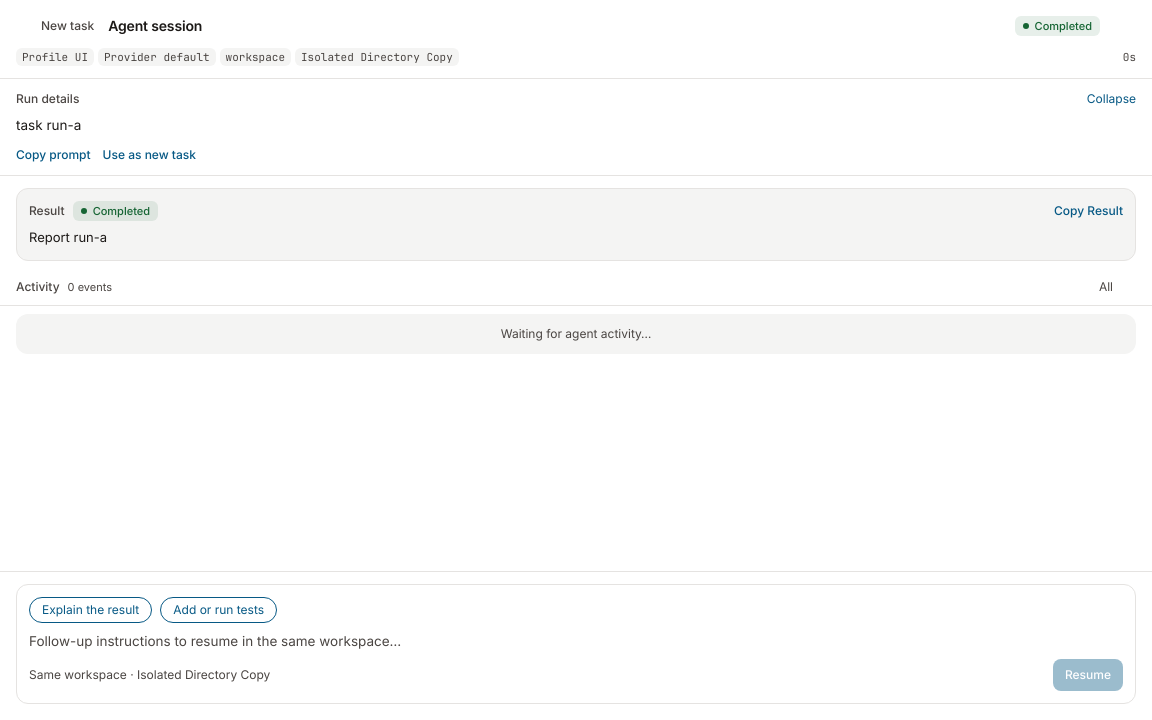
Scenario: Agent book UI: follow-ups › keeps text typed while a resume was in flight
The image size is (1152, 720).
Step 1. Type "first follow-up" into the text box named "Follow-up prompt" → (576, 641), box x1=29 y1=631 x2=1123 y2=651
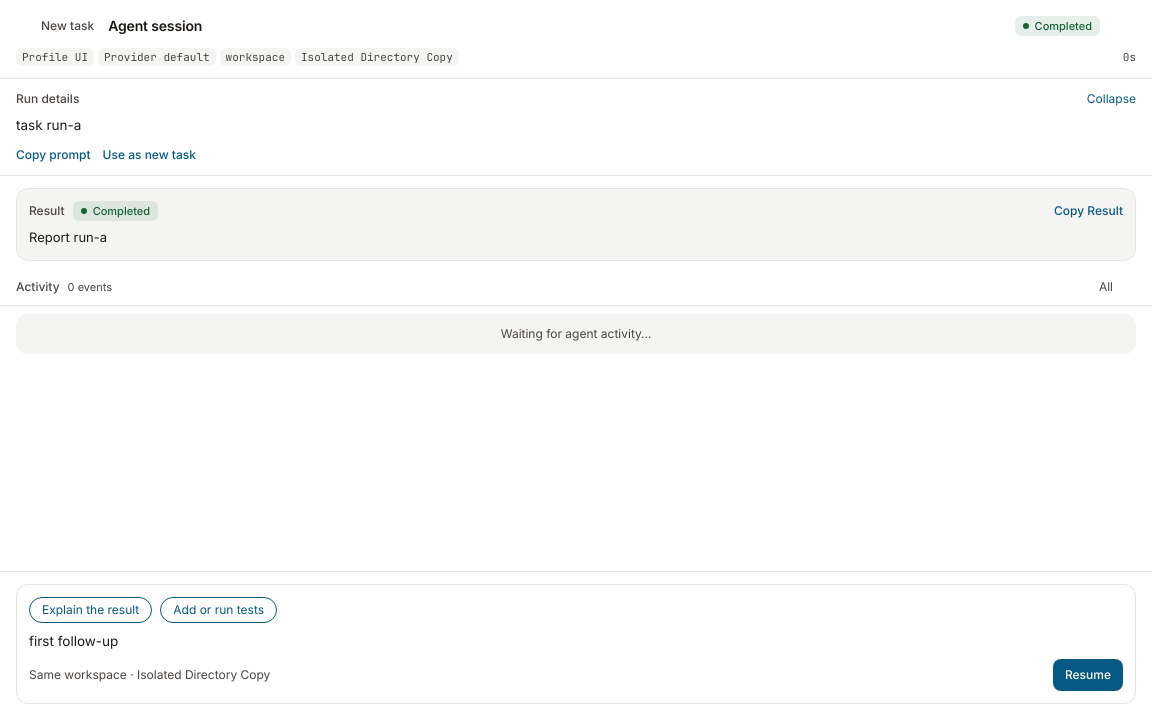
Step 2. Click the button with test id "agent-resume-button" → (1088, 675), box x1=1053 y1=659 x2=1123 y2=691
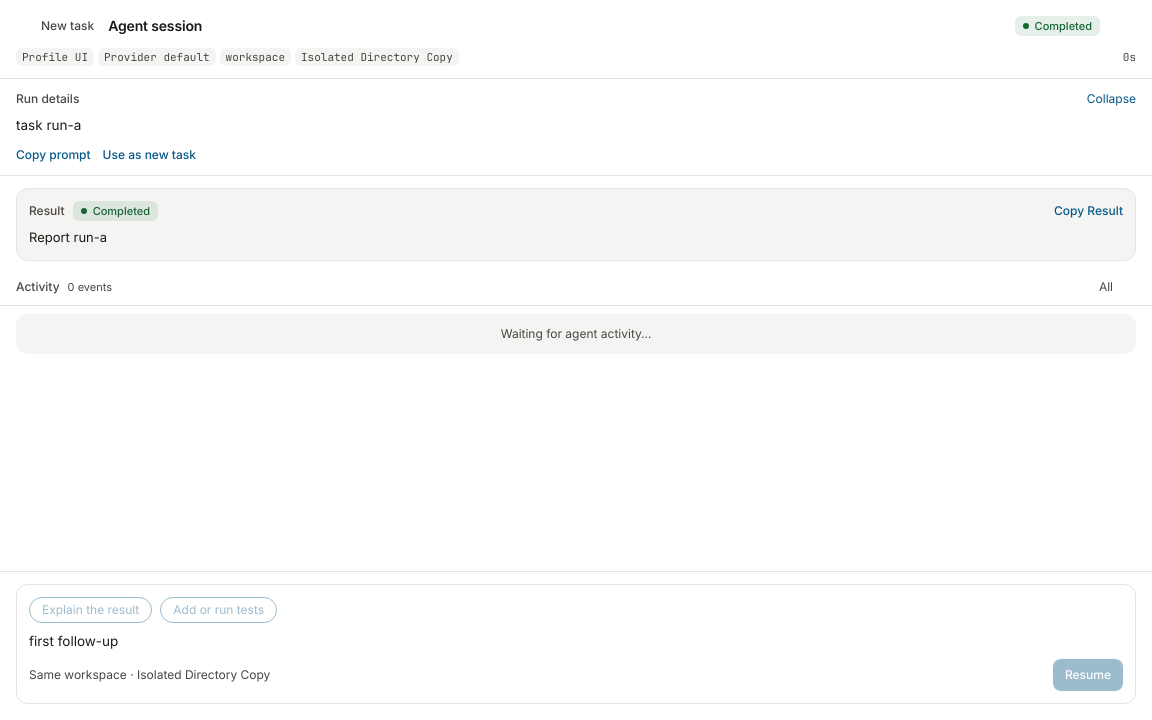
Step 3. Replace the text in the text box named "Follow-up prompt" with "next idea" → (576, 641), box x1=29 y1=631 x2=1123 y2=651
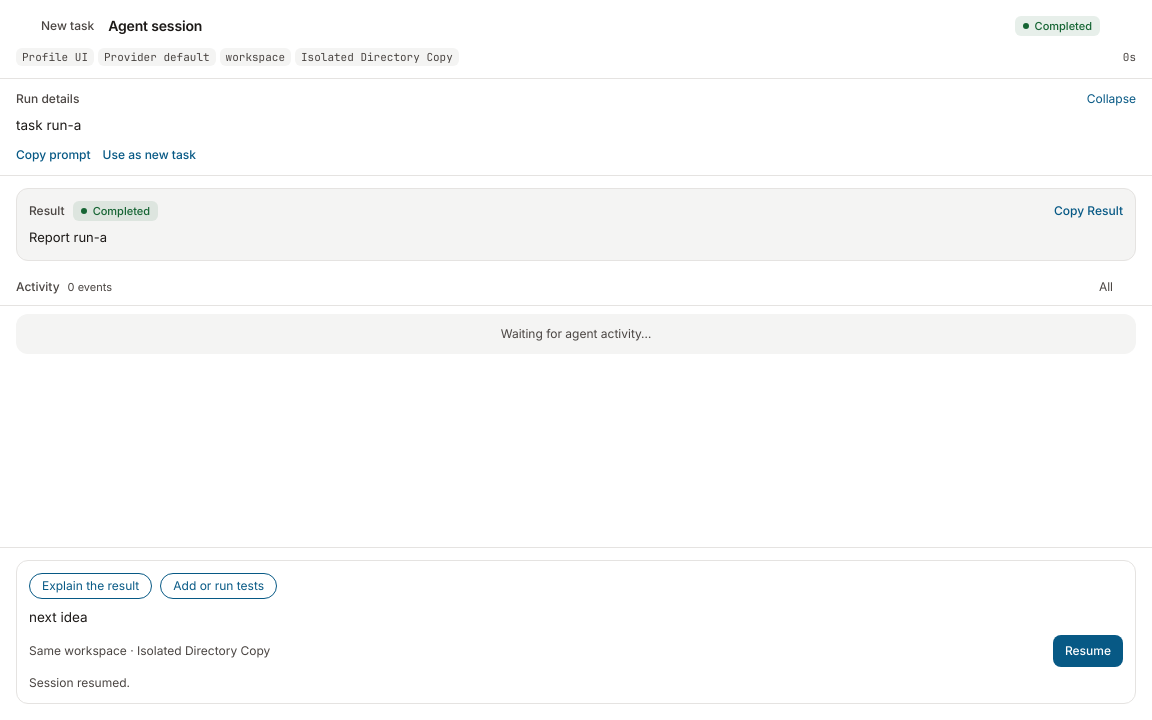
Check: the text with test id "agent-resume-status" reads "Session resumed.", box x1=29 y1=675 x2=130 y2=690
